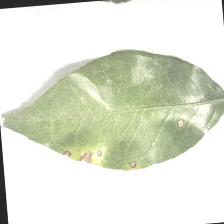canker: (56, 142, 140, 170)
